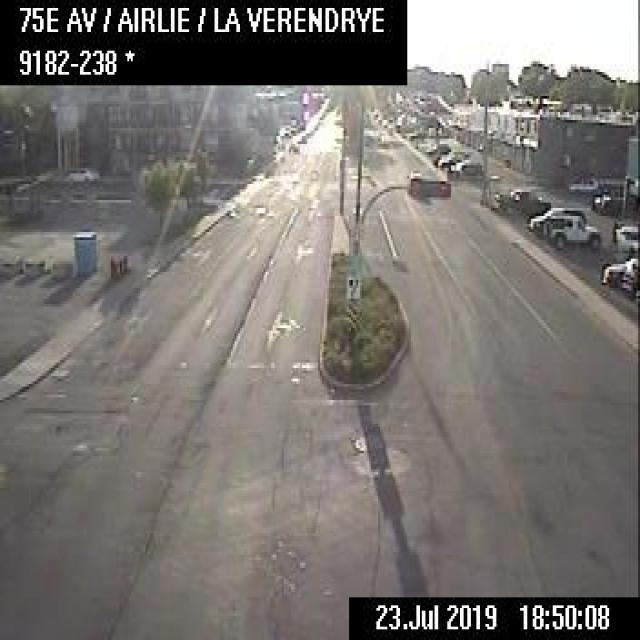construction: (109, 254, 114, 276)
vehicle: (544, 212, 600, 251), (529, 204, 585, 236), (494, 185, 548, 213), (600, 254, 637, 286), (615, 222, 637, 253), (65, 163, 99, 183), (566, 171, 597, 192), (436, 150, 466, 170), (452, 158, 481, 178)
